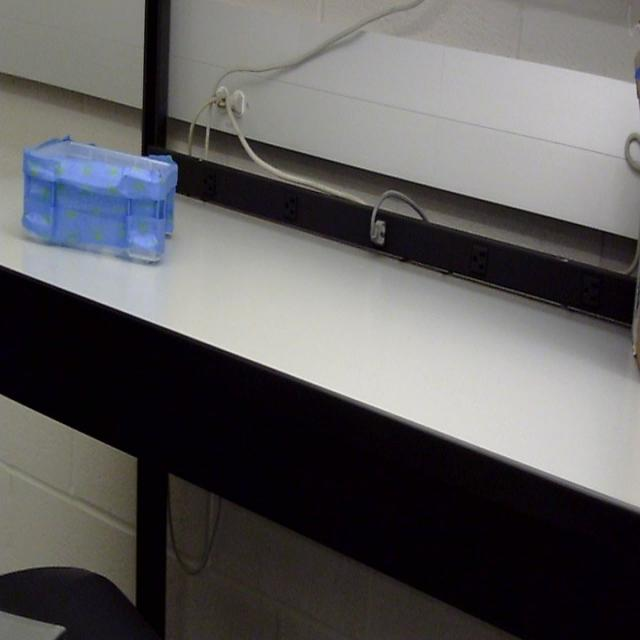bucket: (21, 132, 180, 267)
